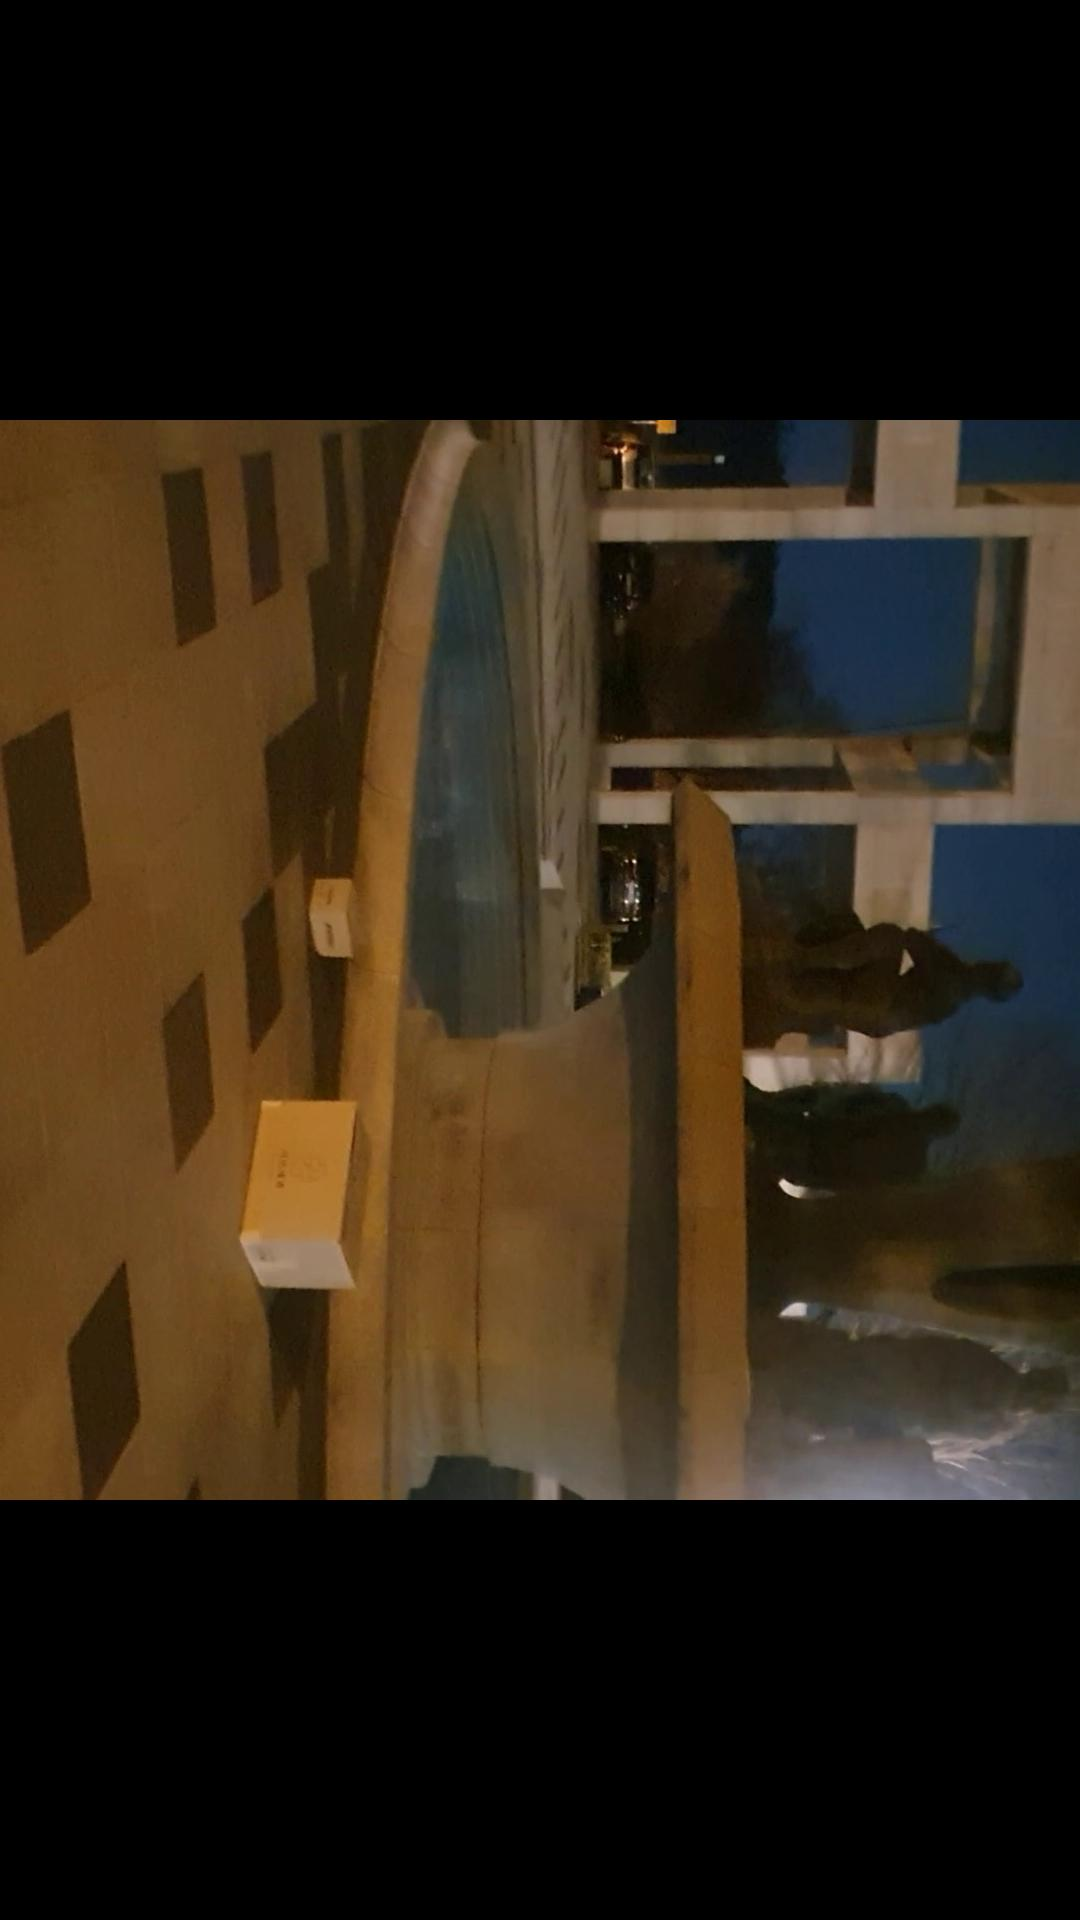Box: (235, 1098, 396, 1302), (278, 858, 390, 972)
